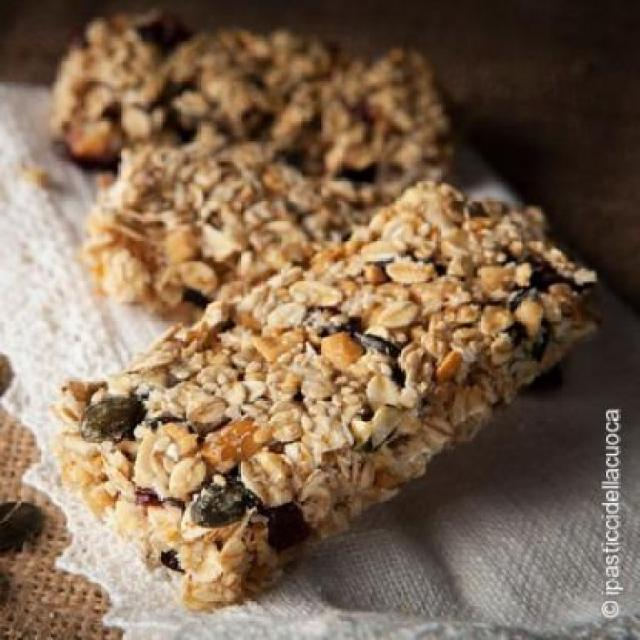Cereal bar packaged: (90, 182, 578, 624)
